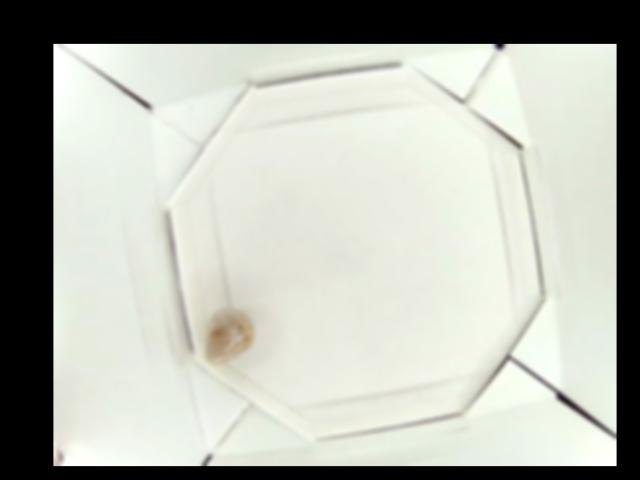Pebble: (205, 306, 255, 364)
